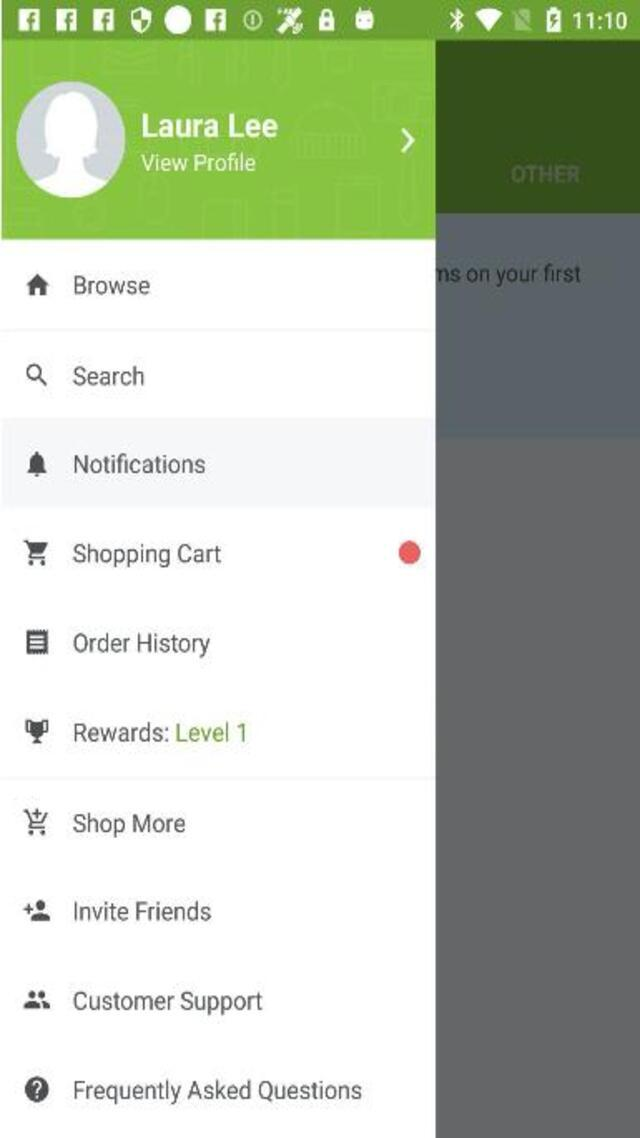CheckedTextView: (397, 541, 422, 566)
Icon: (15, 82, 131, 202), (22, 808, 48, 835), (22, 540, 48, 566), (24, 1076, 49, 1100), (25, 718, 48, 743), (24, 273, 49, 296), (23, 989, 50, 1010), (23, 900, 50, 921), (26, 630, 48, 654), (24, 364, 46, 386), (26, 452, 46, 476), (400, 128, 415, 153)
Text: (74, 1080, 362, 1104), (73, 992, 263, 1014), (72, 542, 222, 568), (142, 111, 278, 138), (72, 722, 244, 743), (72, 631, 210, 656), (74, 900, 210, 921), (73, 813, 184, 838), (73, 454, 204, 474), (140, 152, 256, 172), (74, 274, 150, 294), (73, 365, 144, 385)
